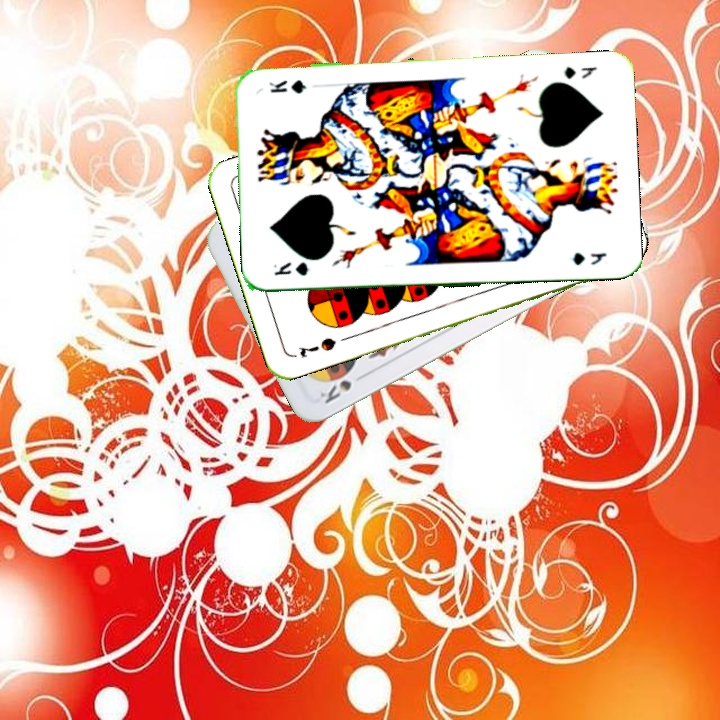GK: (269, 257, 311, 278), (560, 62, 600, 82)
S7: (294, 333, 339, 360)
SK: (315, 365, 356, 407)
